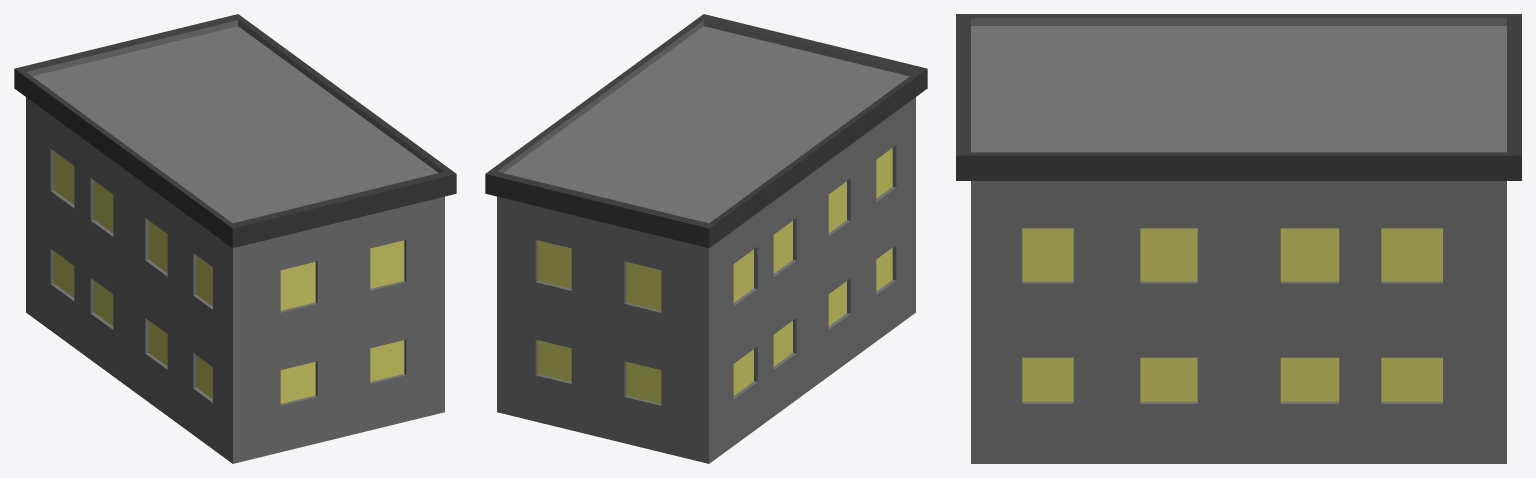
File: city_house_1.fbx
The picture shows the model from 3 angles, left to right: view 1: azimuth 30°, elevation 25°; view 2: azimuth 150°, elevation 25°; view 3: azimuth 270°, elevation 25°; orthographic projection. The views are drawn at different scales.
Parts seen in each view (by area): view 1: Cube; view 2: Cube; view 3: Cube.
Boxes of the visible parts, x1,y1,x2,y2 form: Cube: (14,14,456,463); Cube: (485,14,927,463); Cube: (956,14,1521,463).
Size of the model in its own units: 1270 by 1305 by 2145.
